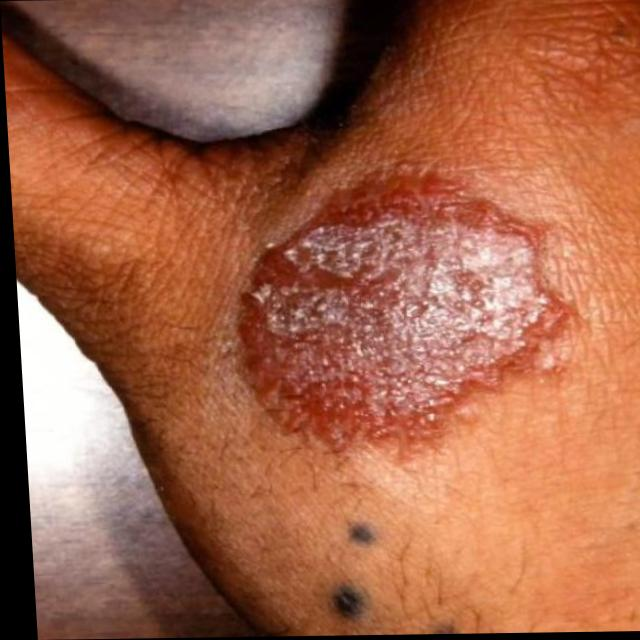Eczema: (215, 182, 544, 446)
